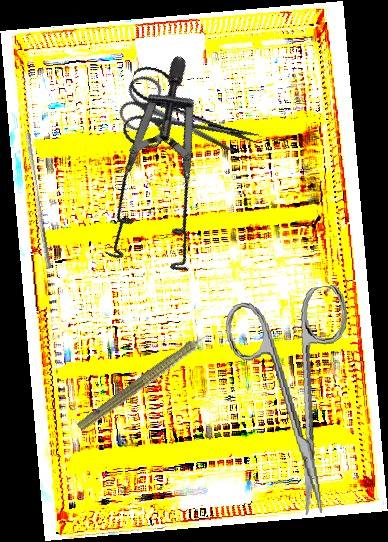Handpiece: (74, 320, 225, 438)
Iris Scissors: (222, 283, 371, 523), (116, 63, 269, 176), (112, 70, 250, 176)
Pusher: (20, 132, 57, 270)
Speculum: (46, 54, 292, 302)
